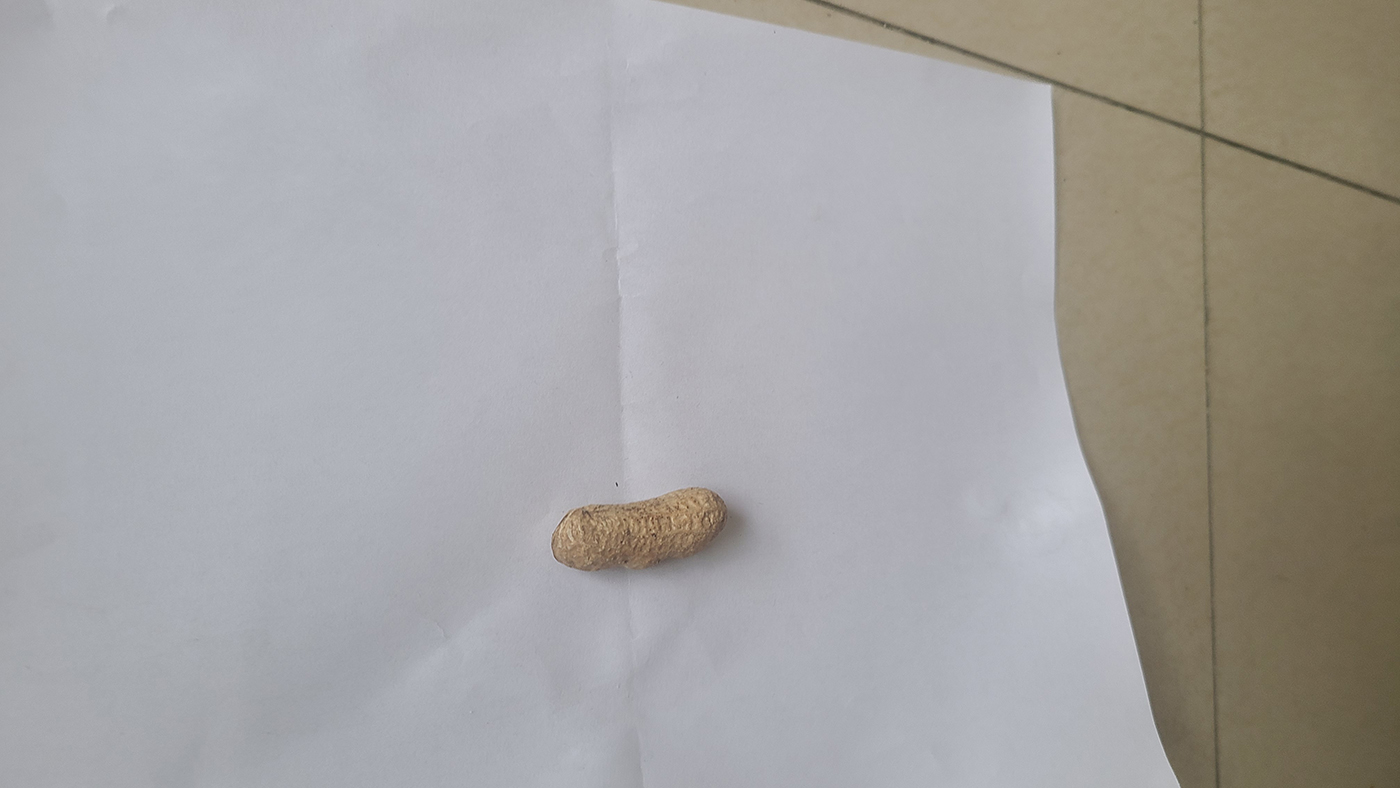h: (550, 486, 728, 573)
